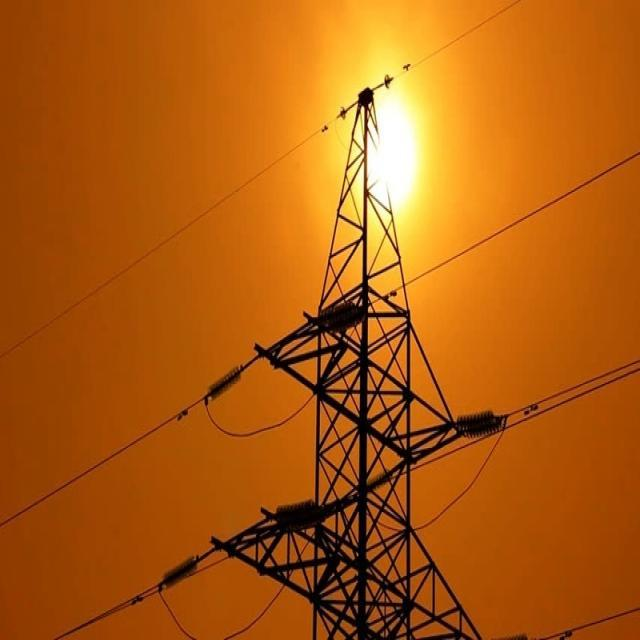non-critical vegetation: (280, 114, 454, 632)
